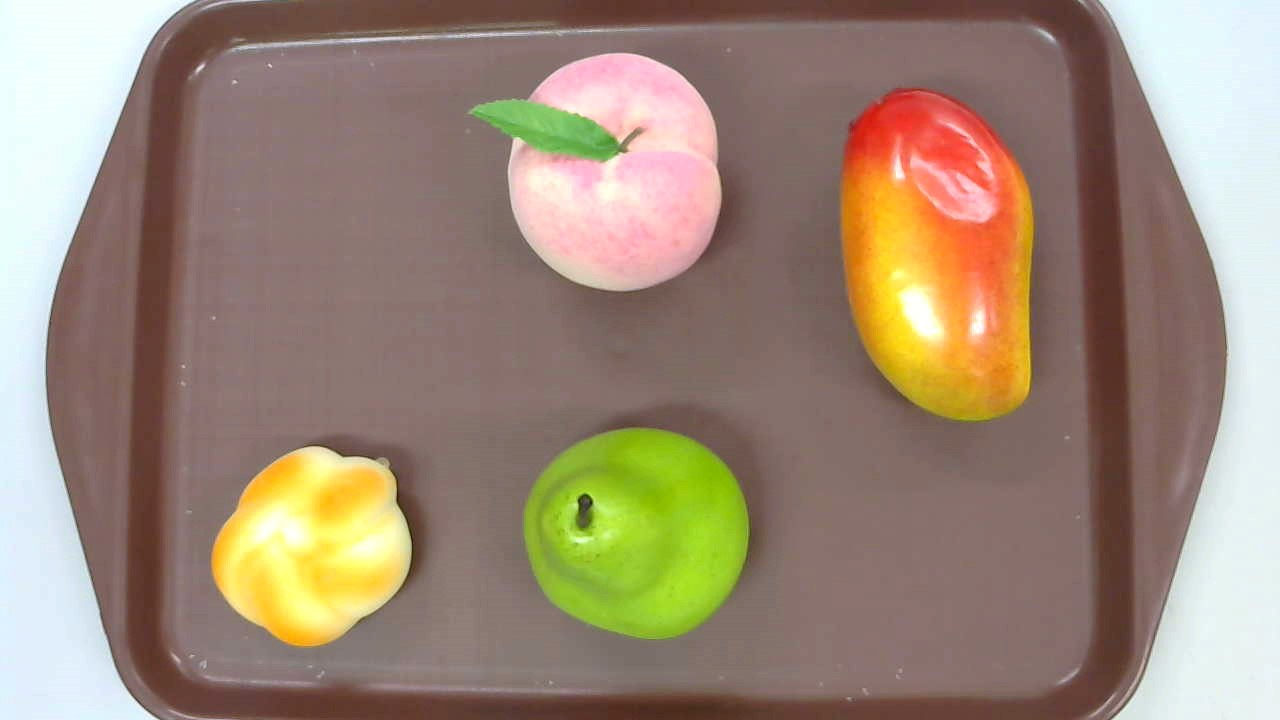green pear: (522, 425, 749, 639)
peaches: (468, 52, 722, 292)
red mango: (841, 86, 1035, 422)
twist bread: (210, 444, 412, 647)
